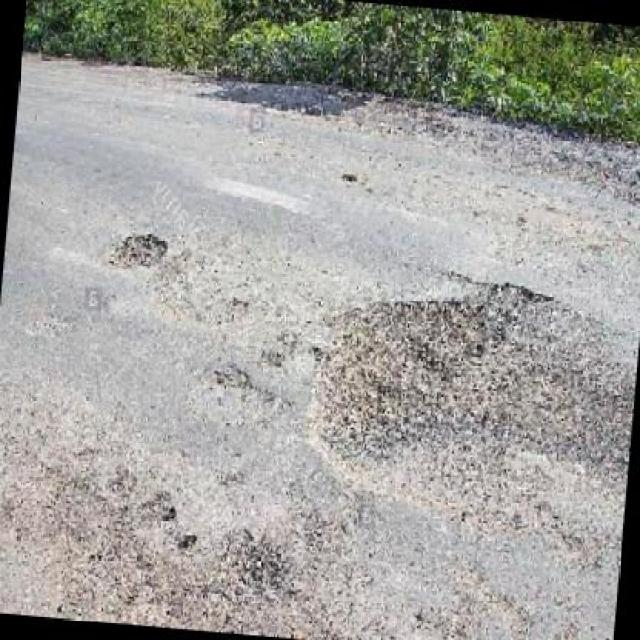pothole1: (306, 260, 560, 500), (105, 222, 173, 276), (139, 487, 184, 522), (210, 362, 258, 392), (175, 530, 202, 553), (340, 168, 362, 186)
